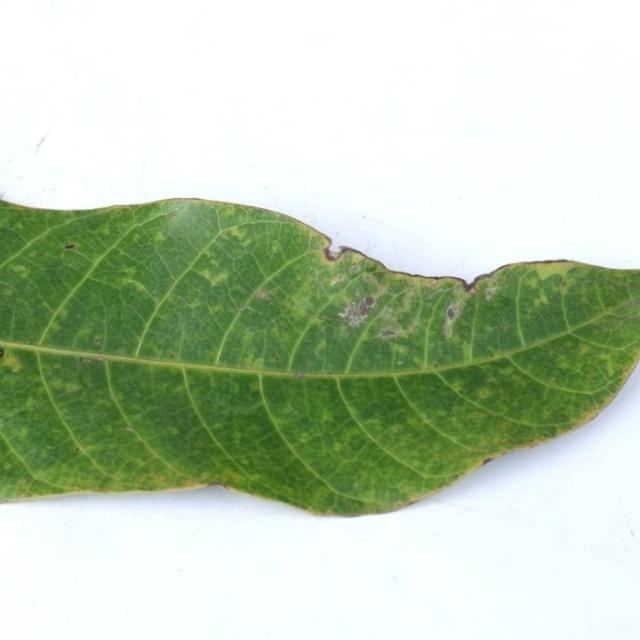Mango: (0, 198, 639, 520)
Powdery_Mildew: (139, 233, 201, 291), (63, 352, 123, 407), (189, 258, 231, 292), (1, 349, 24, 373), (312, 336, 328, 362), (126, 281, 150, 297), (56, 381, 83, 394), (73, 328, 91, 346), (534, 290, 550, 307), (228, 226, 246, 241), (10, 264, 29, 277), (577, 343, 594, 357), (121, 267, 137, 280), (477, 388, 494, 400), (332, 441, 346, 454), (393, 345, 409, 356), (152, 232, 166, 244), (249, 380, 263, 392), (298, 432, 312, 443), (390, 425, 404, 435), (560, 278, 569, 288), (93, 337, 103, 346)
